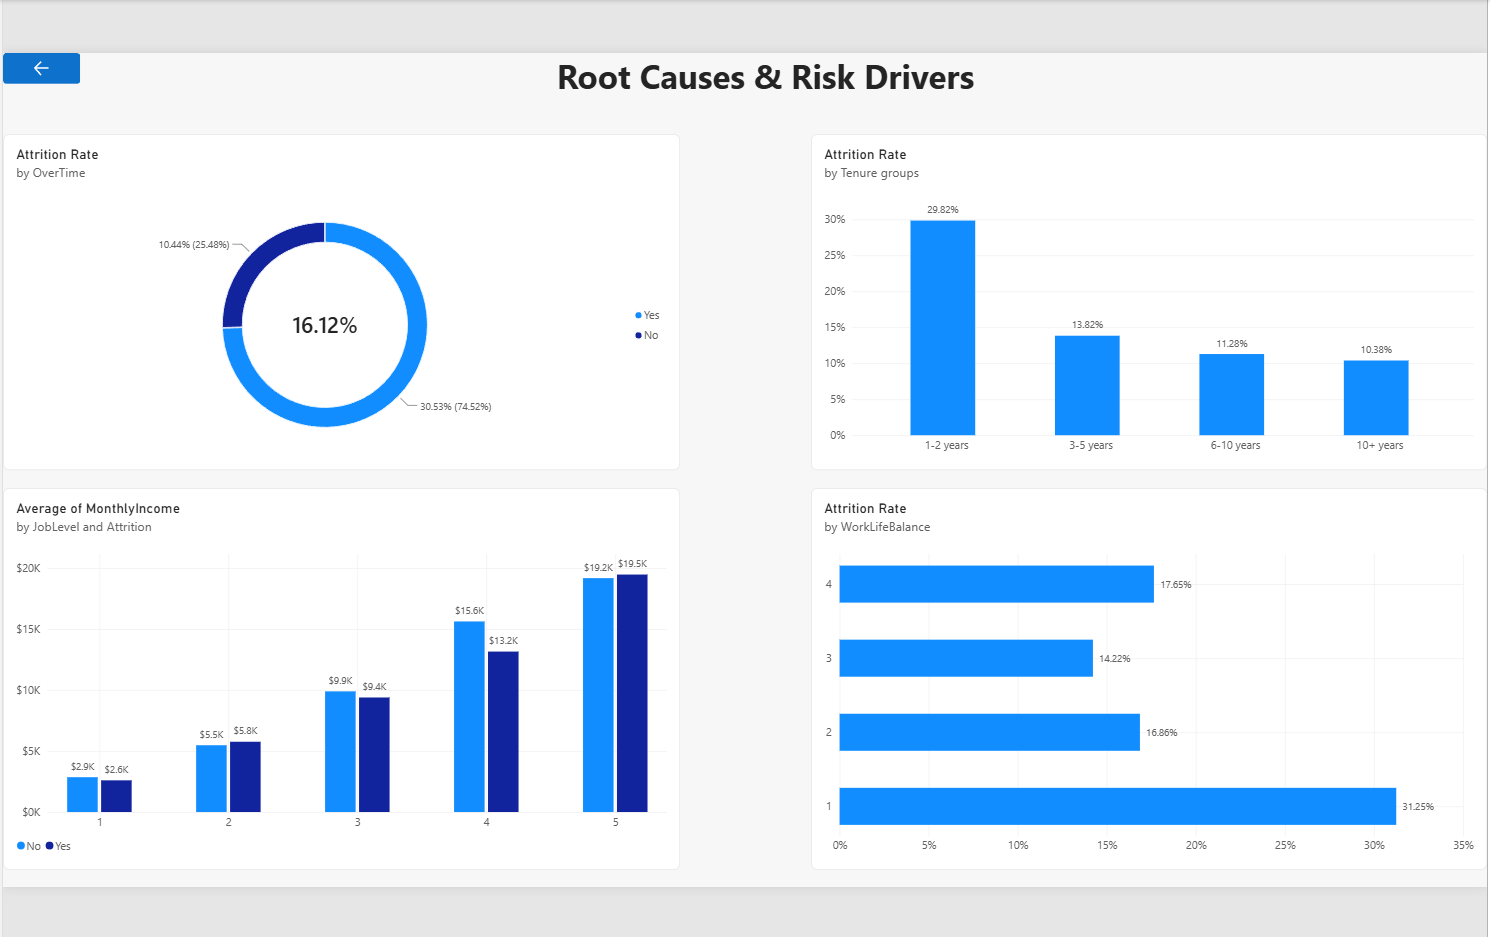

What the dashboard file says about the page in this screenshot:
{"tool":"powerbi","page":{"name":"Root Causes","canvas":[1920,1080],"ordinal":2},"visuals":[{"type":"donutChart","fields":{"Category":["Fact_Attrition.OverTime"],"Y":["_Dax_Measures.Attrition Rate"]},"box":[0,104.8,875.9,434.7],"z":0},{"type":"textbox","box":[368.7,0,1235.6,94.4],"z":1000},{"type":"clusteredColumnChart","fields":{"Category":["Fact_Attrition.JobLevel"],"Y":["Avg(Fact_Attrition.MonthlyIncome)"],"Series":["Fact_Attrition.Attrition"]},"box":[0,562.8,875.9,494.2],"z":2000},{"type":"clusteredColumnChart","fields":{"Y":["_Dax_Measures.Attrition Rate"],"Category":["Fact_Attrition.Tenure groups"]},"box":[1045.4,104.8,874.6,434.7],"z":3000},{"type":"clusteredBarChart","fields":{"Category":["Fact_Attrition.WorkLifeBalance"],"Y":["_Dax_Measures.Attrition Rate"]},"box":[1045.4,562.8,874.6,494.2],"z":4000},{"type":"actionButton","box":[0,0,100,40],"z":5000}]}

Visuals, with their boxes on the page's 1920x1080 design canvas (x1, y1, x2, y2). These are canvas units, not pixel positions in the 1490x937 screenshot, which may show the page scaled, cropped or inside an application window:
donutChart - Fact_Attrition.OverTime x _Dax_Measures.Attrition Rate: crop(0, 105, 876, 540)
textbox: crop(369, 0, 1604, 94)
clusteredColumnChart - Fact_Attrition.JobLevel x Avg(Fact_Attrition.MonthlyIncome): crop(0, 563, 876, 1057)
clusteredColumnChart - _Dax_Measures.Attrition Rate x Fact_Attrition.Tenure groups: crop(1045, 105, 1920, 540)
clusteredBarChart - Fact_Attrition.WorkLifeBalance x _Dax_Measures.Attrition Rate: crop(1045, 563, 1920, 1057)
actionButton: crop(0, 0, 100, 40)
